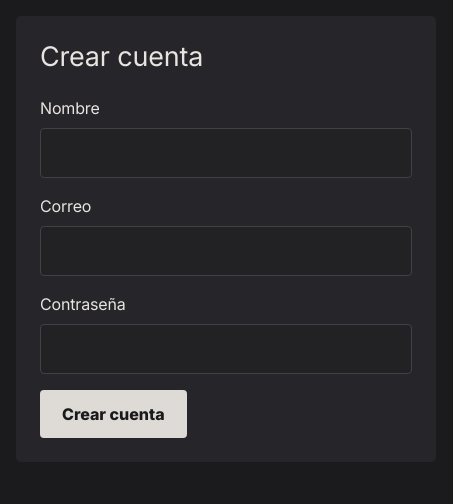
Test: Registro › rechaza un correo que ya tiene una cuenta
Type "Otra Persona" into the field labelled "Nombre" at x=226, y=153, box [40, 128, 412, 178]
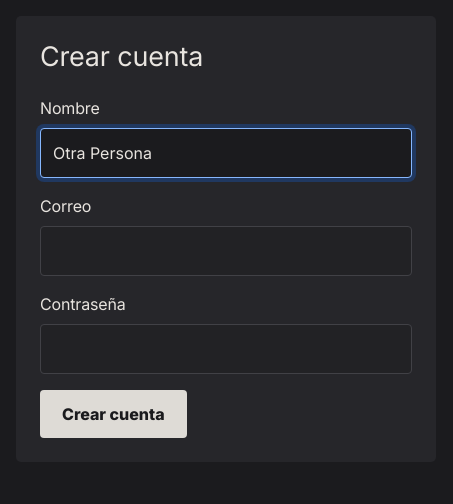
Type "agu.perez@duocuc.cl" into the field labelled "Correo" at x=226, y=251, box [40, 226, 412, 276]
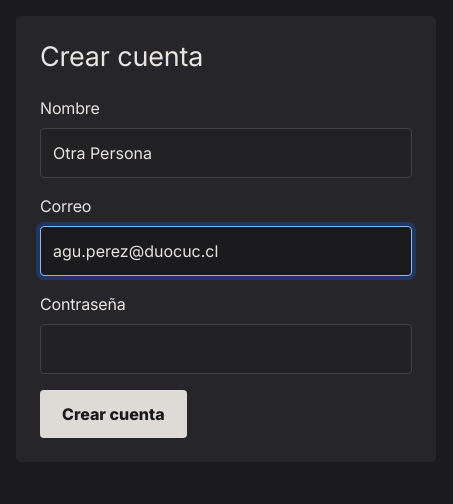
Type "1234" into the password field labelled "Contraseña" at x=226, y=349, box [40, 324, 412, 374]
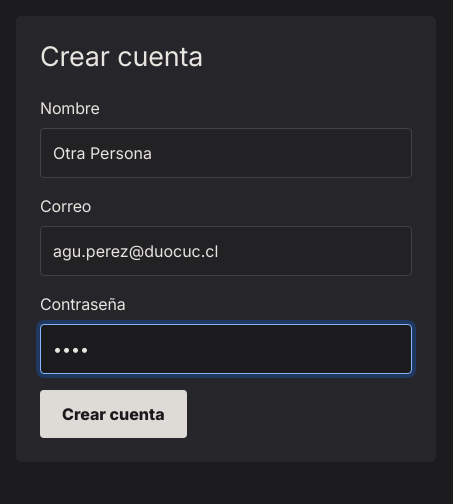
Click the button "Crear cuenta" at x=113, y=414, box [40, 390, 187, 438]
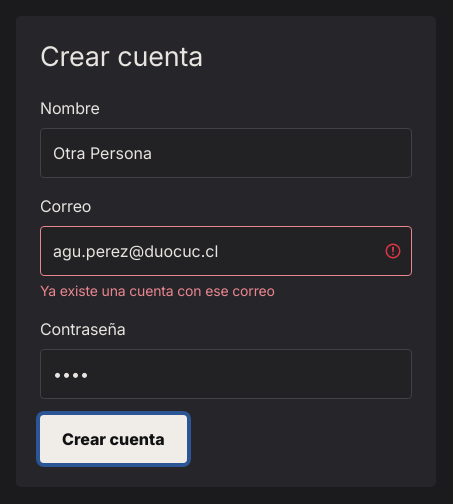
Check: the text "Ya existe una cuenta con ese correo" is shown, box [40, 282, 275, 299]
